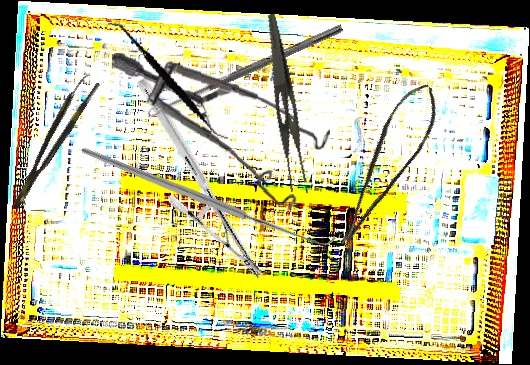Dressing Forceps: (248, 13, 316, 193)
Hook Surgical: (80, 59, 337, 330)
Micro Scissor: (312, 76, 454, 251)
Needle Holder: (81, 74, 320, 283)
Spatula Surgical: (86, 20, 250, 142)
Speculum: (104, 52, 334, 213)
Surgical Spoon: (146, 23, 344, 118)
Tissue Forceps: (0, 73, 102, 211)
